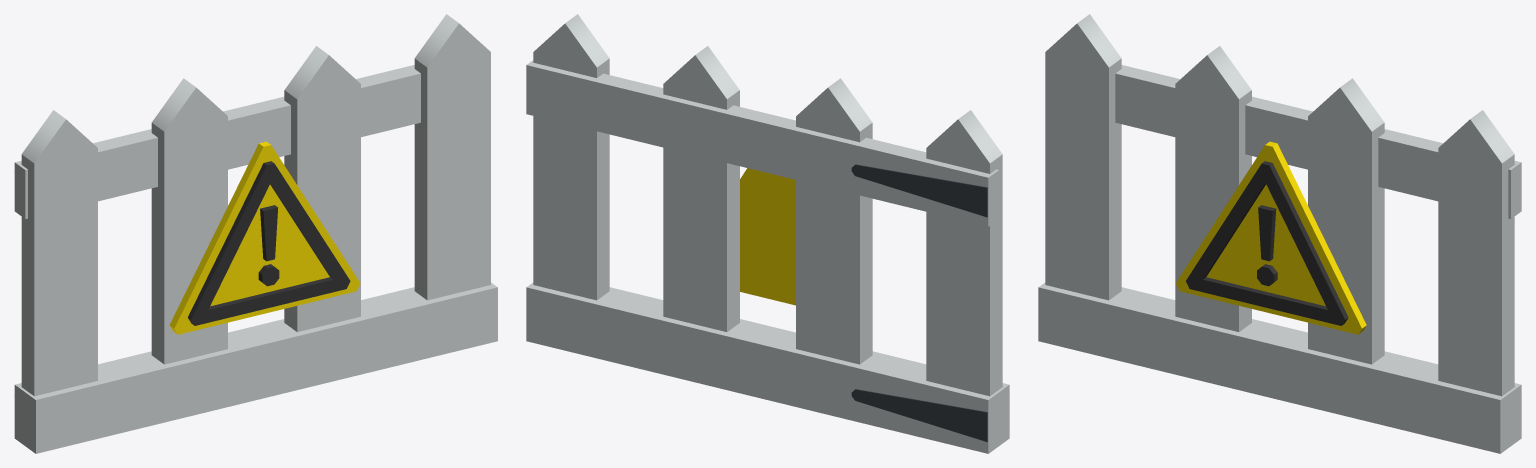
The model's file is gate.glb.
The picture shows the model from 3 angles, left to right: view 1: azimuth 30°, elevation 25°; view 2: azimuth 150°, elevation 25°; view 3: azimuth 330°, elevation 25°; orthographic projection.
Visible parts, largest first — view 1: gate, warningSign; view 2: gate, warningSign, bracket1, bracket2; view 3: gate, warningSign.
Boxes of the visible parts, x1,y1,x2,y2 form: gate: [14, 14, 497, 453]; warningSign: [169, 141, 360, 334]; gate: [526, 14, 1009, 453]; warningSign: [740, 168, 795, 305]; bracket1: [851, 164, 987, 217]; bracket2: [851, 389, 987, 441]; gate: [1038, 14, 1521, 453]; warningSign: [1175, 141, 1366, 334].
Size of what is drawn, in the model's own units: 1.76 by 1.18 by 0.17.
